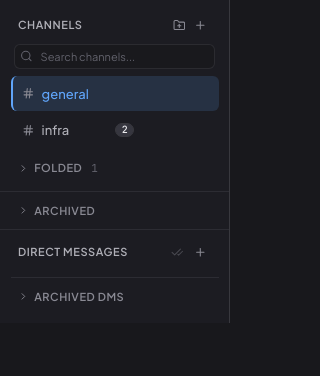
Scenario: Sidebar channel ordering › indents channels rendered inside the Folded section
What coordinates should you click on to do the following:
click the button with test id "sidebar-folded-section-toggle"
I would click on:
 (115, 168)
Its box is [11,152,219,184].
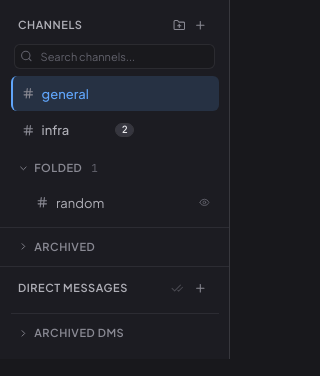
Check: the element with test id "sidebar-folded-channel-list" is shown, box [11,185,219,220]
Check: the list item with test id "sidebar-folded-channel-item" is shown, box [25,185,219,220]
